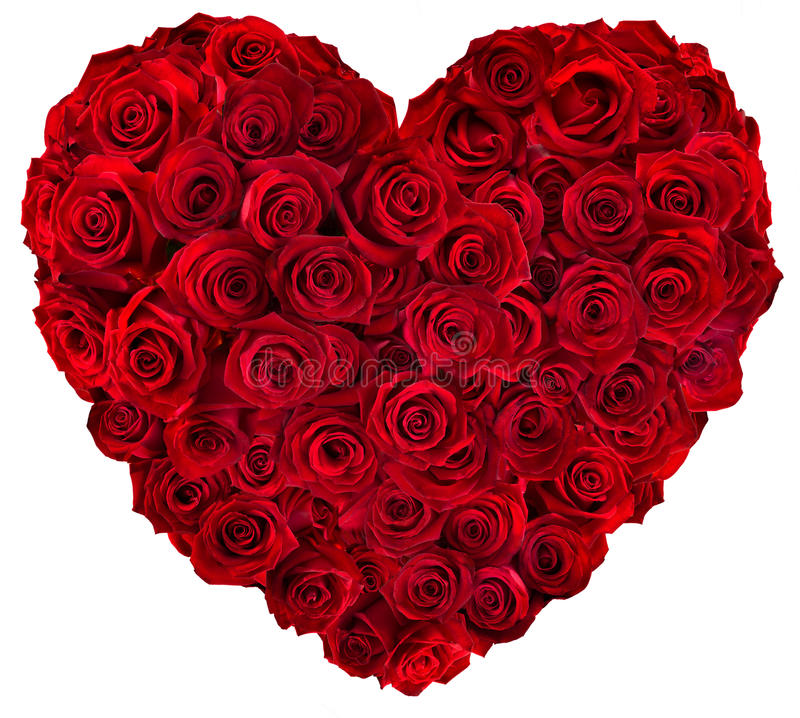RedRose: (42, 154, 173, 297), (514, 31, 646, 158), (92, 271, 205, 418), (79, 61, 216, 177), (338, 121, 458, 252), (409, 274, 533, 398), (357, 357, 487, 470), (629, 225, 734, 358), (157, 224, 288, 326), (375, 526, 494, 634), (274, 229, 399, 330), (425, 208, 540, 309), (176, 494, 284, 601), (551, 255, 653, 366), (149, 143, 253, 250), (498, 372, 593, 484), (252, 554, 374, 640), (239, 153, 337, 245), (283, 398, 378, 492), (161, 394, 265, 470), (562, 440, 637, 517), (227, 80, 296, 154)
